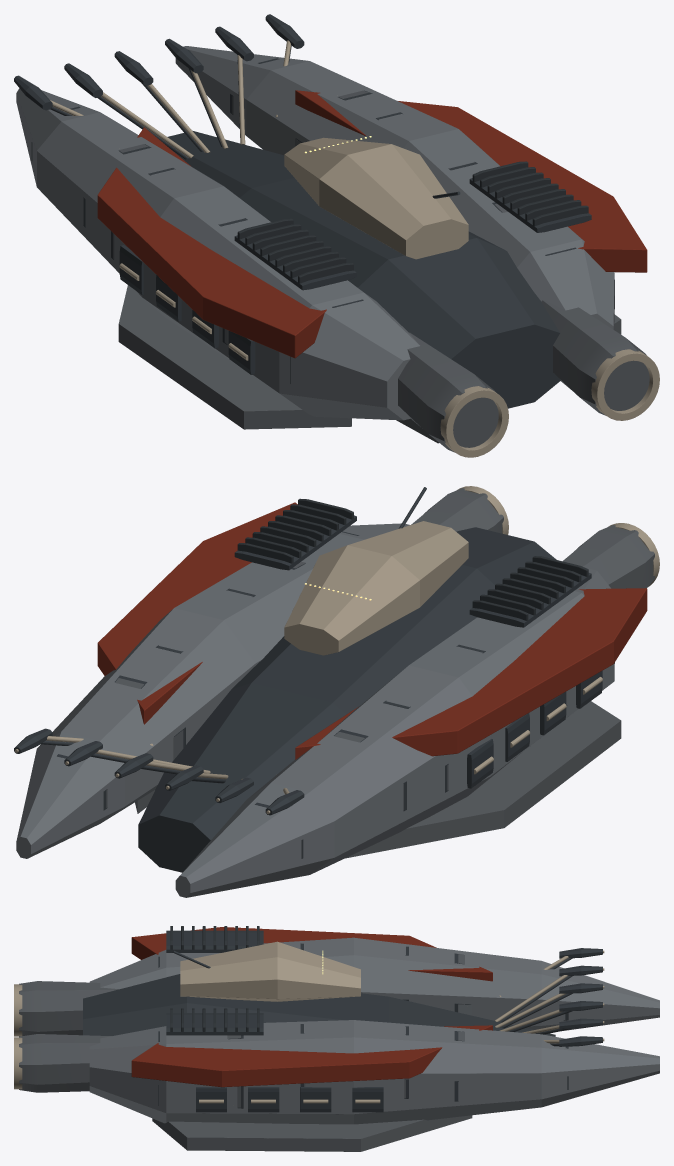
File: battleship_bastion.glb
3 renders of one model, top to bottom at view 1: azimuth 30°, elevation 25°; view 2: azimuth 150°, elevation 25°; view 3: azimuth 270°, elevation 25°, orthographic. The views are drawn at different scales.
Parts seen in each view (by area): view 1: v4_forge_hull, v4_forge_dark, v4_forge_secondary, v4_forge_paint, v4_forge_trim, v4_forge_ceramic; view 2: v4_forge_hull, v4_forge_dark, v4_forge_paint, v4_forge_secondary, v4_forge_trim, v4_forge_ceramic; view 3: v4_forge_hull, v4_forge_dark, v4_forge_secondary, v4_forge_paint, v4_forge_trim, v4_forge_ceramic.
Part boxes in pixels (x1=…): v4_forge_hull: x1=16, y1=46, x2=614, y2=420; v4_forge_dark: x1=14, y1=14, x2=614, y2=408; v4_forge_secondary: x1=53, y1=90, x2=649, y2=452; v4_forge_paint: x1=97, y1=90, x2=647, y2=358; v4_forge_trim: x1=50, y1=40, x2=659, y2=457; v4_forge_ceramic: x1=237, y1=161, x2=588, y2=283; v4_forge_hull: x1=16, y1=523, x2=614, y2=897; v4_forge_dark: x1=14, y1=487, x2=614, y2=872; v4_forge_paint: x1=97, y1=502, x2=647, y2=759; v4_forge_secondary: x1=50, y1=488, x2=654, y2=858; v4_forge_trim: x1=15, y1=486, x2=659, y2=814; v4_forge_ceramic: x1=237, y1=498, x2=588, y2=620; v4_forge_hull: x1=89, y1=937, x2=659, y2=1124; v4_forge_dark: x1=83, y1=930, x2=602, y2=1112; v4_forge_secondary: x1=19, y1=954, x2=564, y2=1151; v4_forge_paint: x1=131, y1=927, x2=492, y2=1087; v4_forge_trim: x1=14, y1=941, x2=604, y2=1103; v4_forge_ceramic: x1=170, y1=926, x2=259, y2=1031.
Bounding box in the file's own units: 108 × 63.38 × 204.
